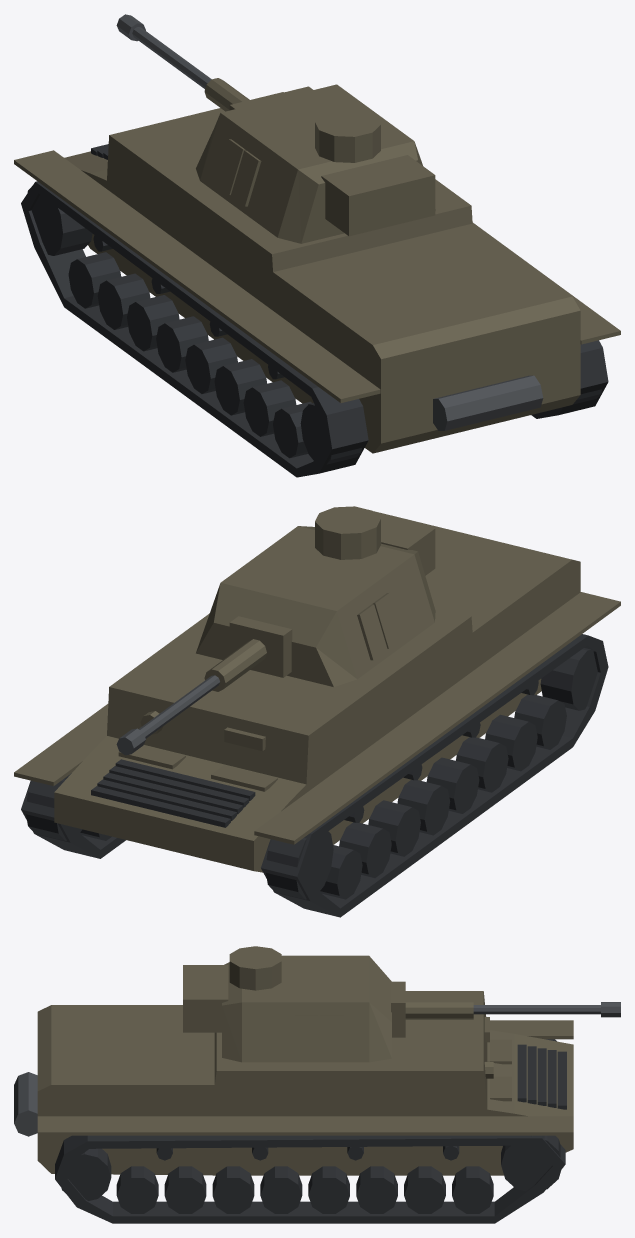
File: panzer4.glb
3 views of the same model, one above another, from view 1: azimuth 30°, elevation 25°; view 2: azimuth 150°, elevation 25°; view 3: azimuth 270°, elevation 25° (orthographic). The views are drawn at different scales.
Visible parts, largest first — view 1: PZ4_Hull, PZ4_Turret, PZ4_Fender_L, PZ4_Track_L, PZ4_Bin, PZ4_Muffler, PZ4_Cupola, PZ4_Sprocket_L, PZ4_Wheel_L4, PZ4_Wheel_L3, PZ4_Wheel_L6, PZ4_Wheel_L1 (+11 smaller); view 2: PZ4_Hull, PZ4_Turret, PZ4_Fender_L, PZ4_Track_L, PZ4_Cupola, PZ4_Fender_R, PZ4_Sprocket_L, PZ4_Mantlet, PZ4_Idler_L, PZ4_Wheel_L2, PZ4_Wheel_L6, PZ4_Wheel_L4 (+20 smaller); view 3: PZ4_Hull, PZ4_Track_R, PZ4_Turret, PZ4_Fender_R, PZ4_Bin, PZ4_Cupola, PZ4_Sprocket_R, PZ4_Idler_R, PZ4_Wheel_R5, PZ4_Wheel_R6, PZ4_Wheel_R7, PZ4_Wheel_R4 (+18 smaller).
Boxes of the visible parts, bbox=[...] form: PZ4_Hull: bbox=[64, 86, 580, 453]; PZ4_Turret: bbox=[196, 84, 435, 243]; PZ4_Fender_L: bbox=[14, 150, 380, 402]; PZ4_Track_L: bbox=[21, 181, 368, 477]; PZ4_Bin: bbox=[321, 155, 435, 236]; PZ4_Muffler: bbox=[433, 375, 543, 430]; PZ4_Cupola: bbox=[315, 109, 380, 162]; PZ4_Sprocket_L: bbox=[27, 186, 92, 255]; PZ4_Wheel_L4: bbox=[185, 337, 237, 393]; PZ4_Wheel_L3: bbox=[156, 316, 208, 372]; PZ4_Wheel_L6: bbox=[243, 380, 296, 436]; PZ4_Wheel_L1: bbox=[97, 273, 150, 329]; PZ4_Hull: bbox=[54, 511, 580, 872]; PZ4_Turret: bbox=[196, 526, 435, 686]; PZ4_Fender_L: bbox=[254, 592, 620, 844]; PZ4_Track_L: bbox=[261, 634, 608, 917]; PZ4_Cupola: bbox=[315, 506, 380, 559]; PZ4_Fender_R: bbox=[14, 704, 108, 785]; PZ4_Sprocket_L: bbox=[266, 831, 333, 899]; PZ4_Mantlet: bbox=[229, 616, 292, 677]; PZ4_Idler_L: bbox=[540, 648, 597, 710]; PZ4_Wheel_L2: bbox=[368, 800, 420, 856]; PZ4_Wheel_L6: bbox=[485, 714, 537, 771]; PZ4_Wheel_L4: bbox=[426, 757, 479, 813]; PZ4_Hull: bbox=[37, 991, 573, 1175]; PZ4_Track_R: bbox=[55, 1135, 565, 1223]; PZ4_Turret: bbox=[222, 955, 391, 1062]; PZ4_Fender_R: bbox=[37, 1116, 573, 1135]; PZ4_Bin: bbox=[183, 965, 228, 1032]; PZ4_Cupola: bbox=[229, 946, 281, 990]; PZ4_Sprocket_R: bbox=[501, 1135, 560, 1191]; PZ4_Idler_R: bbox=[61, 1148, 111, 1200]; PZ4_Wheel_R5: bbox=[212, 1166, 254, 1213]; PZ4_Wheel_R6: bbox=[164, 1166, 206, 1213]; PZ4_Wheel_R7: bbox=[116, 1166, 158, 1213]; PZ4_Wheel_R4: bbox=[260, 1166, 302, 1213].
Bounding box in the file's own units: 2.92 × 2.56 × 6.68.
